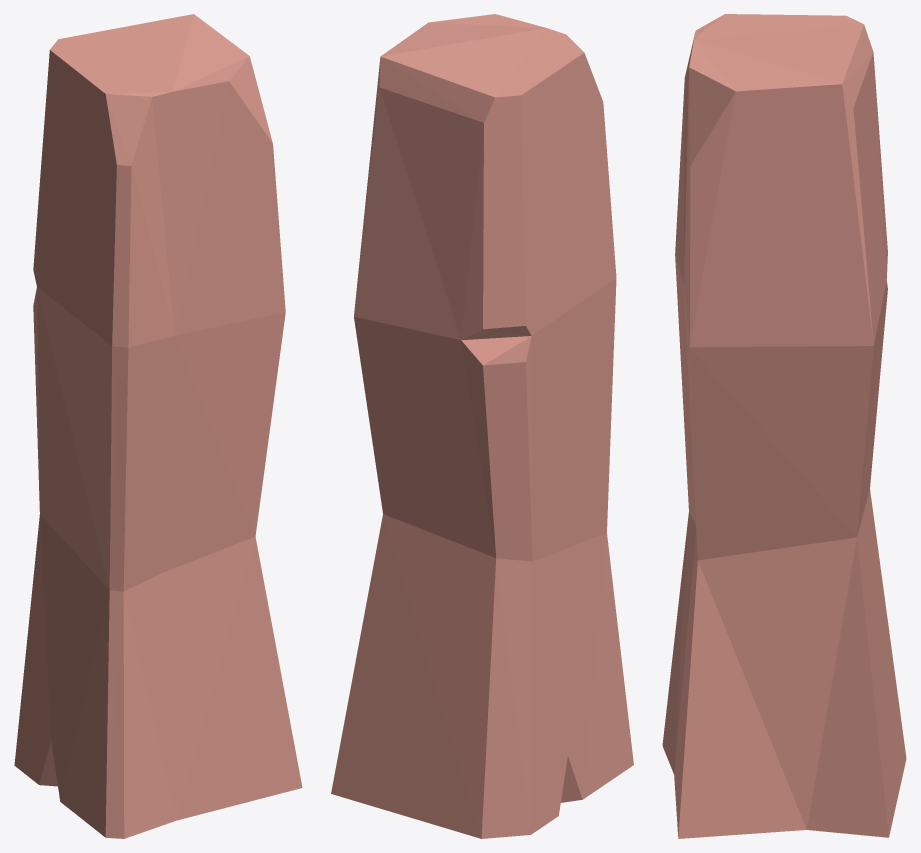
File: Plane_029_Vlad.fbx
3 views of the same model, side by side, from view 1: azimuth 30°, elevation 25°; view 2: azimuth 150°, elevation 25°; view 3: azimuth 270°, elevation 25° (orthographic). The views are drawn at different scales.
Visible parts, largest first — view 1: Plane.029; view 2: Plane.029; view 3: Plane.029.
Part boxes in pixels (bbox=[...]): Plane.029: bbox=[14, 14, 302, 838]; Plane.029: bbox=[331, 14, 633, 838]; Plane.029: bbox=[662, 14, 906, 838].
Size of the model in its own units: 116 by 401 by 120.
